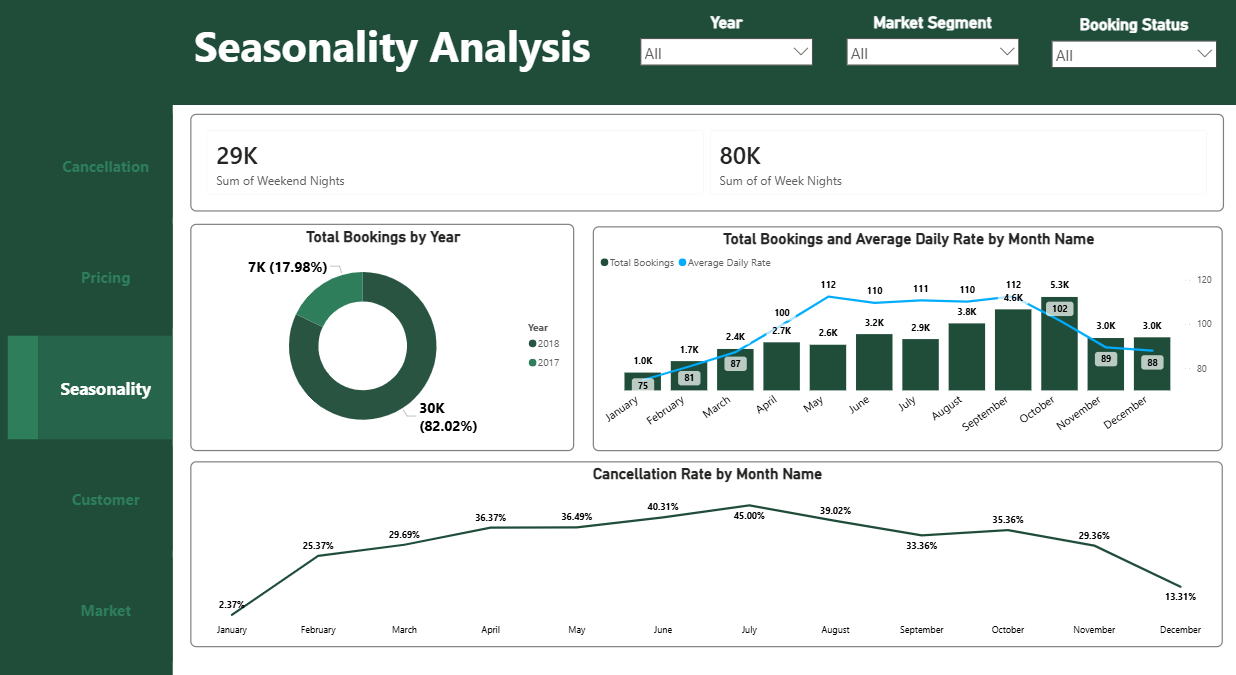

What the dashboard file says about the page in this screenshot:
{"tool":"powerbi","page":{"name":"Seasonality","canvas":[1650,900],"ordinal":2},"visuals":[{"type":"lineClusteredColumnComboChart","fields":{"Category":["Date.Month Name"],"Y2":["Measure.Average Daily Rate"],"Y":["Measure.Total Bookings"]},"box":[791.7,301.7,840,300],"z":0},{"type":"lineChart","fields":{"Category":["Date.Month Name"],"Y":["Measure.Cancellation Rate"]},"box":[255,615,1376.7,248.3],"z":1000},{"type":"cardVisual","fields":{"Data":["Sum(Hotel Reservations.no_of_weekend_nights)","Sum(Hotel Reservations.no_of_week_nights)"]},"box":[255,151.7,1378.3,130],"z":2000},{"type":"donutChart","fields":{"Category":["Date.Year"],"Y":["Measure.Total Bookings"]},"box":[255,298.3,511.7,303.3],"z":3000},{"type":"shape","box":[165,0,1485,140],"z":4000},{"type":"shape","box":[0,0,231.7,900],"z":5000},{"type":"pageNavigator","box":[53.3,151.7,178.3,730],"z":6000},{"type":"pageNavigator","box":[11.7,151.7,41.7,730],"z":7000},{"type":"textbox","box":[255,16.7,693.3,105],"z":8000},{"type":"slicer","title":"Year","fields":{"Values":["Date.Year"]},"box":[845,16.7,250,78.3],"z":9000},{"type":"slicer","title":"Market Segment","fields":{"Values":["Market.market_segment_type"]},"box":[1119.2,16.7,250,78.3],"z":10000},{"type":"slicer","title":"Booking Status","fields":{"Values":["Booking Status.booking_status"]},"box":[1393.3,20,240,78.3],"z":11000}]}

Visuals, with their boxes in screenshot pixels (x1, y1, x2, y2), scaled from the page's 1650x900 canvas onto the 1236x675 screenshot:
lineClusteredColumnComboChart - Date.Month Name x Measure.Average Daily Rate: (593, 226, 1222, 451)
lineChart - Date.Month Name x Measure.Cancellation Rate: (191, 461, 1222, 647)
cardVisual - Sum(Hotel Reservations.no_of_weekend_nights) x Sum(Hotel Reservations.no_of_week_nights): (191, 114, 1223, 211)
donutChart - Date.Year x Measure.Total Bookings: (191, 224, 574, 451)
shape: (124, 0, 1235, 105)
shape: (0, 0, 174, 674)
pageNavigator: (40, 114, 173, 661)
pageNavigator: (9, 114, 40, 661)
textbox: (191, 13, 710, 91)
"Year" slicer: (633, 13, 820, 71)
"Market Segment" slicer: (838, 13, 1026, 71)
"Booking Status" slicer: (1044, 15, 1223, 74)
